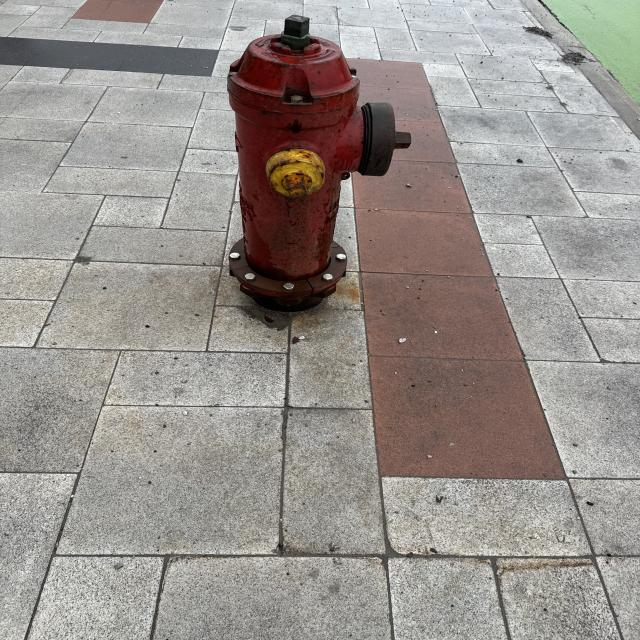Fire hydrant: (225, 14, 411, 305)
